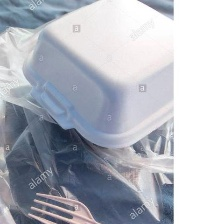foam_box: (17, 0, 172, 151)
